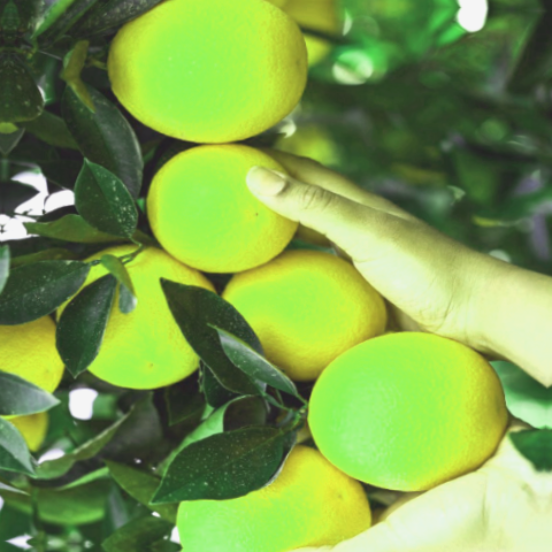orange: (299, 316, 506, 511), (90, 0, 313, 171), (123, 133, 309, 283)
